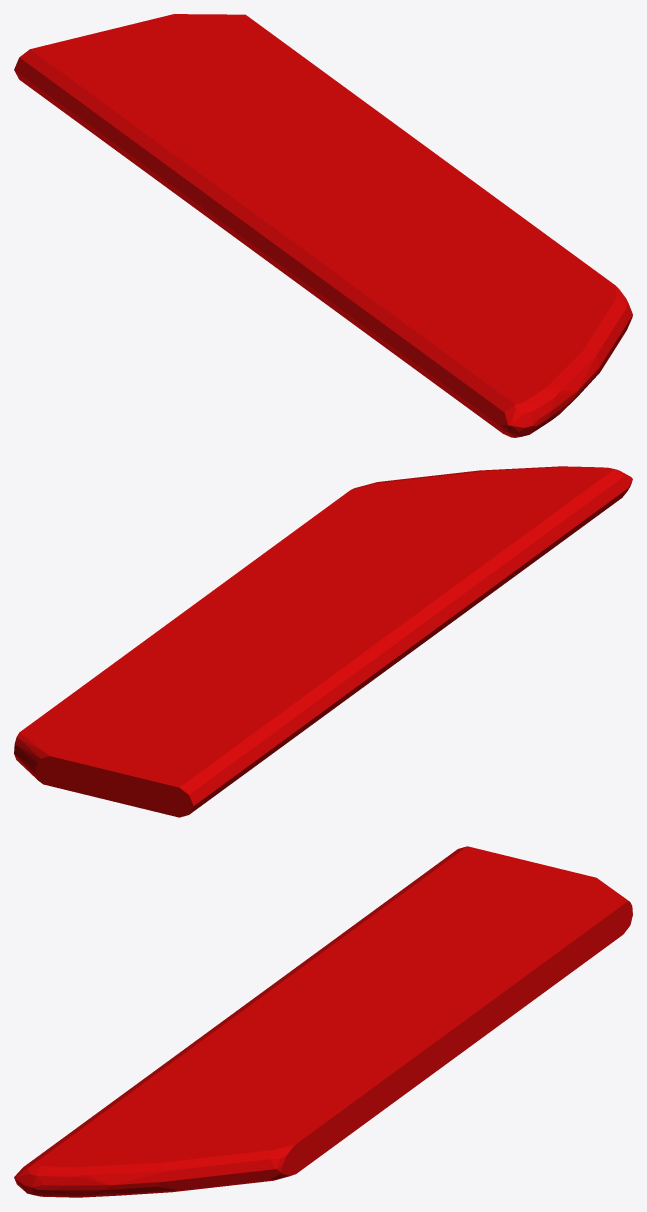
Rendered from model0_convex_piece_017.obj.
The picture shows the model from 3 angles, top to bottom: view 1: azimuth 30°, elevation 25°; view 2: azimuth 150°, elevation 25°; view 3: azimuth 330°, elevation 25°; orthographic projection. The views are drawn at different scales.
Size of the model in its own units: 0.0185 by 0.00278 by 0.0744.
